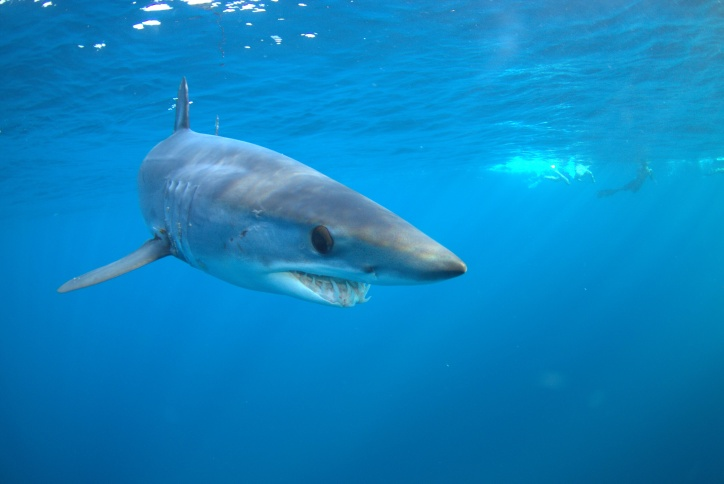Mako: (50, 75, 468, 329)
